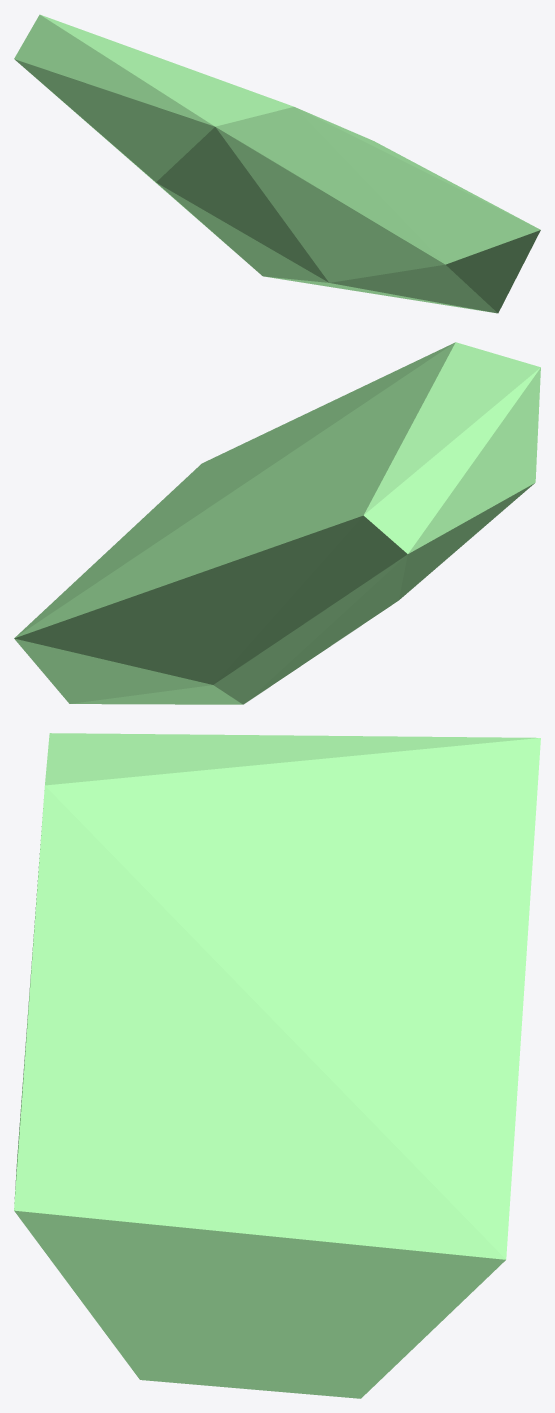
Rendered from dvkr_robot_L3_respondable_ECM_coll_4.dae.
3 views of the same model, one above another, from view 1: azimuth 30°, elevation 25°; view 2: azimuth 150°, elevation 25°; view 3: azimuth 270°, elevation 25° (orthographic). The views are drawn at different scales.
Visible parts, largest first — view 1: Node_0000023514CD72A0; view 2: Node_0000023514CD72A0; view 3: Node_0000023514CD72A0.
Boxes of the visible parts, bbox=[...] form: Node_0000023514CD72A0: bbox=[14, 14, 540, 313]; Node_0000023514CD72A0: bbox=[14, 342, 540, 704]; Node_0000023514CD72A0: bbox=[14, 733, 540, 1398].
Size of the model in its own units: 0.0354 by 0.0287 by 0.0309.
